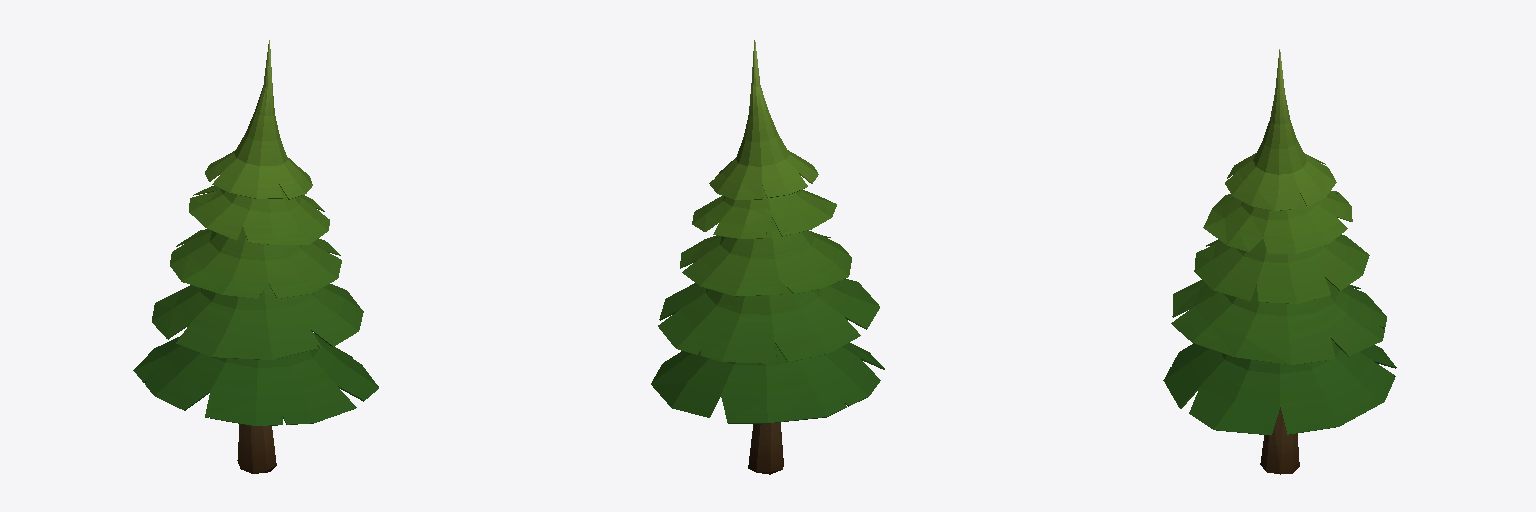
The picture shows the model from 3 angles: view 1: azimuth 30°, elevation 25°; view 2: azimuth 150°, elevation 25°; view 3: azimuth 270°, elevation 25°; orthographic projection.
Parts seen in each view (by area): view 1: Tree_01.004_Cylinder.090; view 2: Tree_01.004_Cylinder.090; view 3: Tree_01.004_Cylinder.090.
Part boxes in pixels (x1,y1,x2,y2): Tree_01.004_Cylinder.090: (133, 40, 378, 473); Tree_01.004_Cylinder.090: (651, 40, 884, 474); Tree_01.004_Cylinder.090: (1163, 49, 1396, 474).
Size of the model in its own units: 2.26 by 4.53 by 2.25.
1 materials, 1 textured.